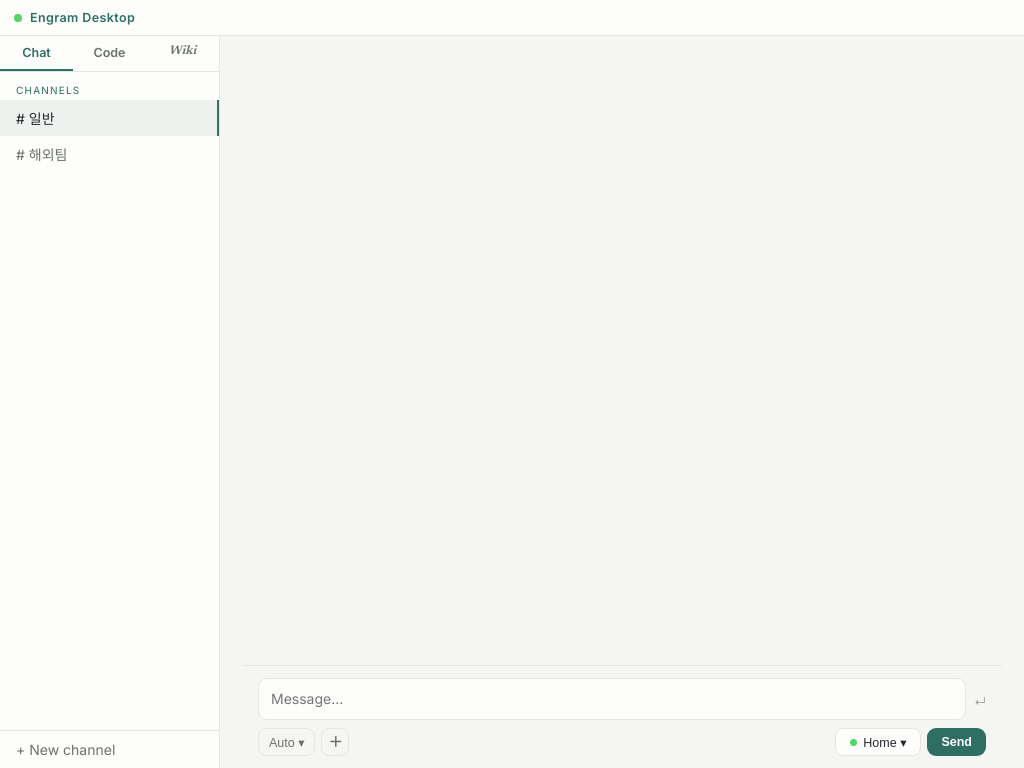
Scenario: 연결을 제거하면 그 연결의 채널이 사이드바에서 사라진다(고스트 채널 방지)
Expected: the text "# 일반" is shown, left=16, top=110, right=55, bottom=127
Expected: the text "# 해외팀" is shown, left=16, top=146, right=68, bottom=163
Click the button "Home ▾" at [878, 742], box left=835, top=728, right=921, bottom=756
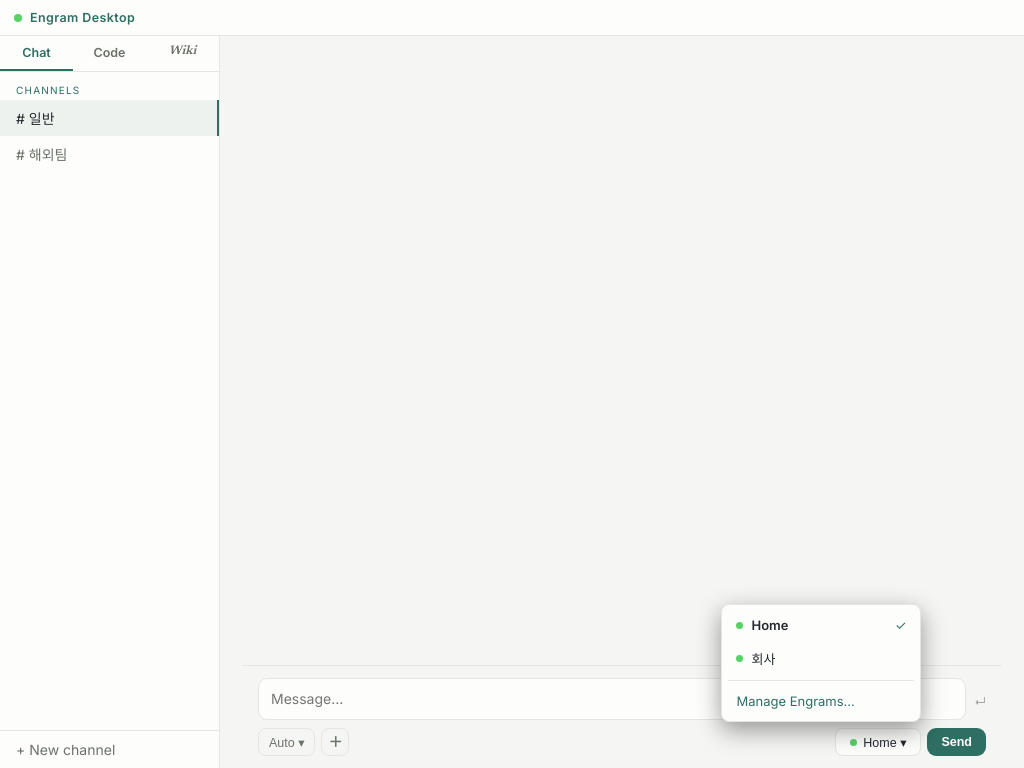
Click the text "Manage Engrams…" at [796, 701], box left=736, top=693, right=855, bottom=709
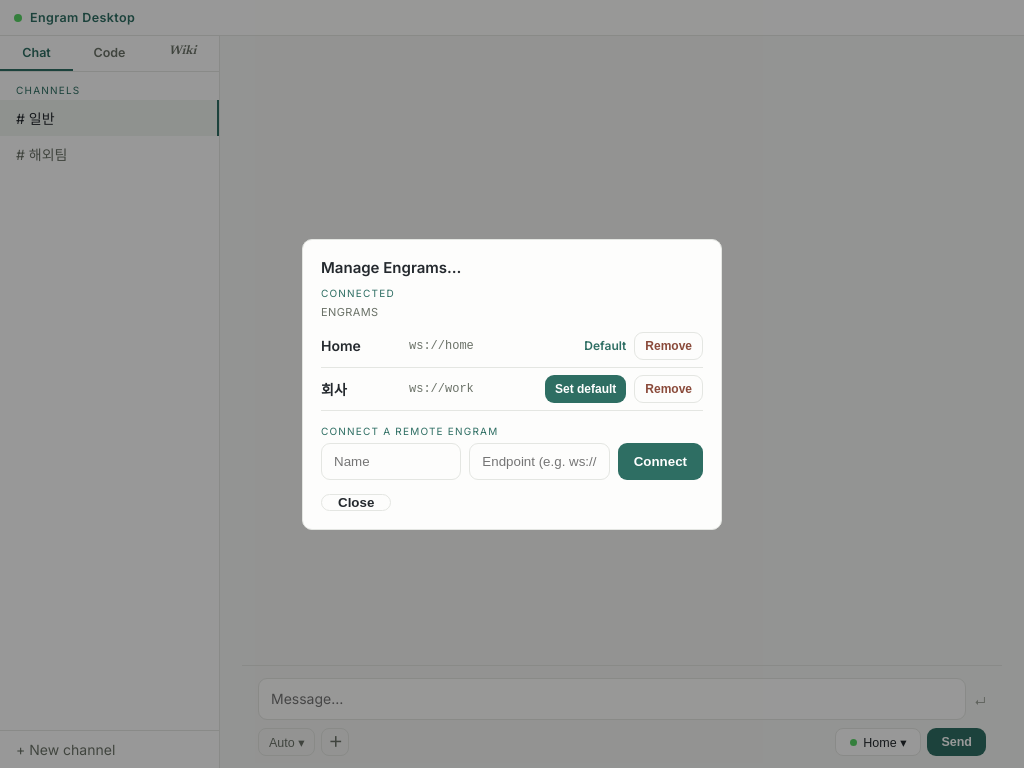
Click the button with class "danger" in the row of "ws://work" at [669, 388], box left=634, top=374, right=703, bottom=402
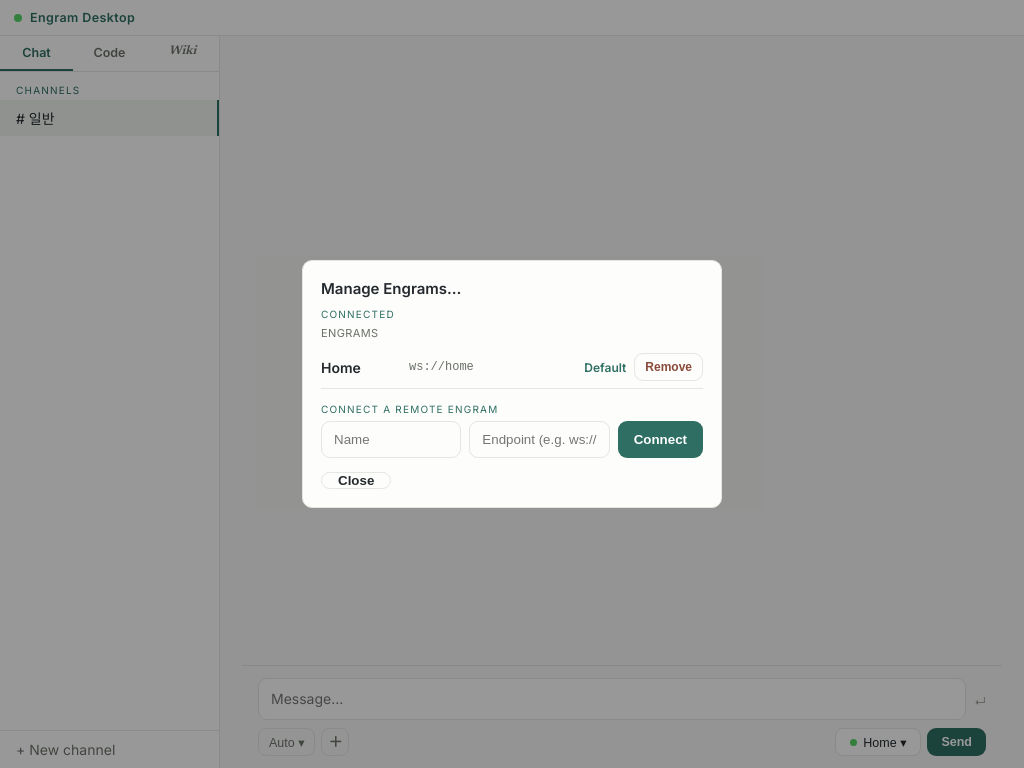
Expected: the text "# 일반" is shown, left=16, top=110, right=55, bottom=127
Now the text "# 해외팀" is gone
